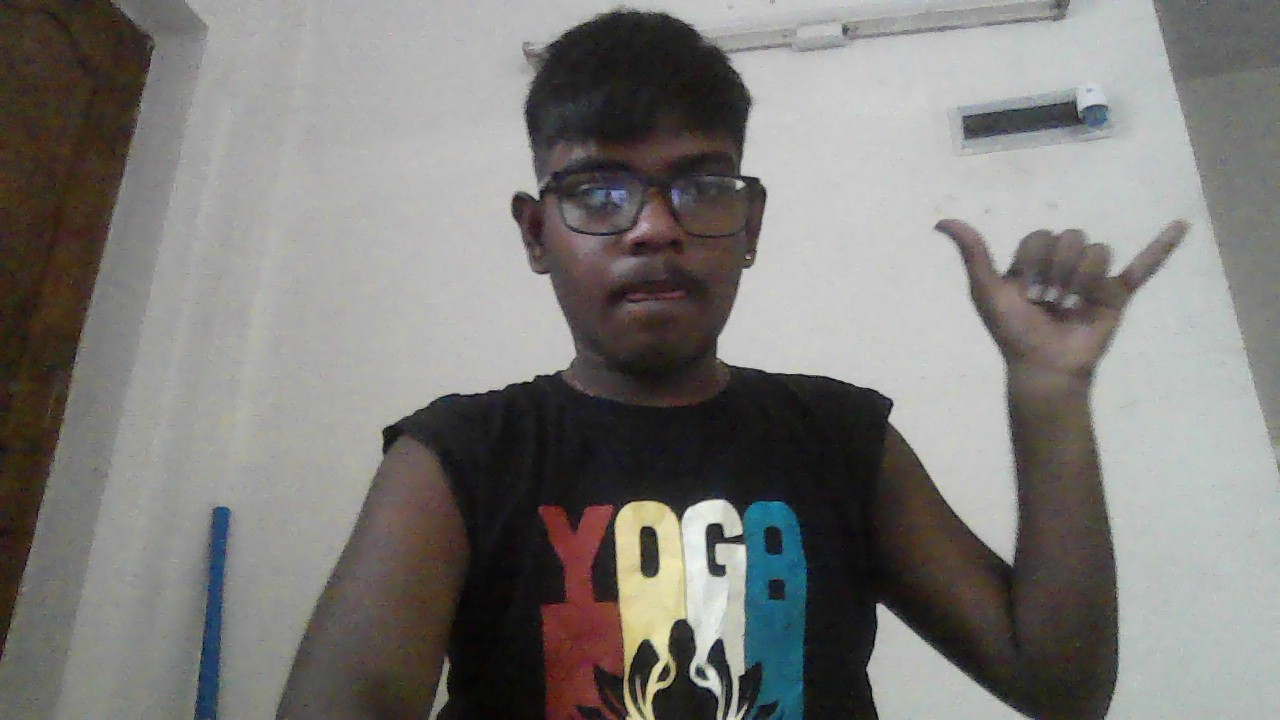Y: (931, 215, 1190, 389)
